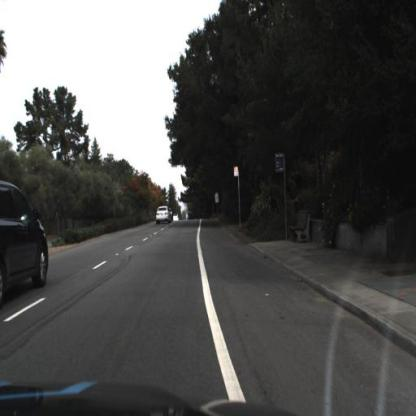car: (1, 183, 51, 317), (155, 203, 176, 226)
